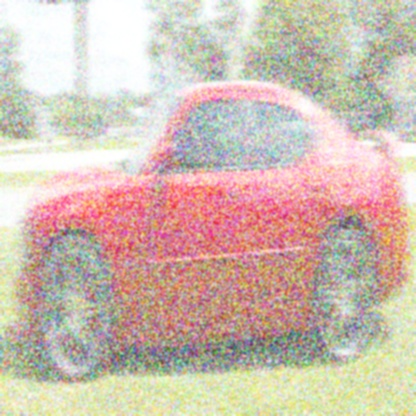Vehicle: (14, 82, 411, 384)
